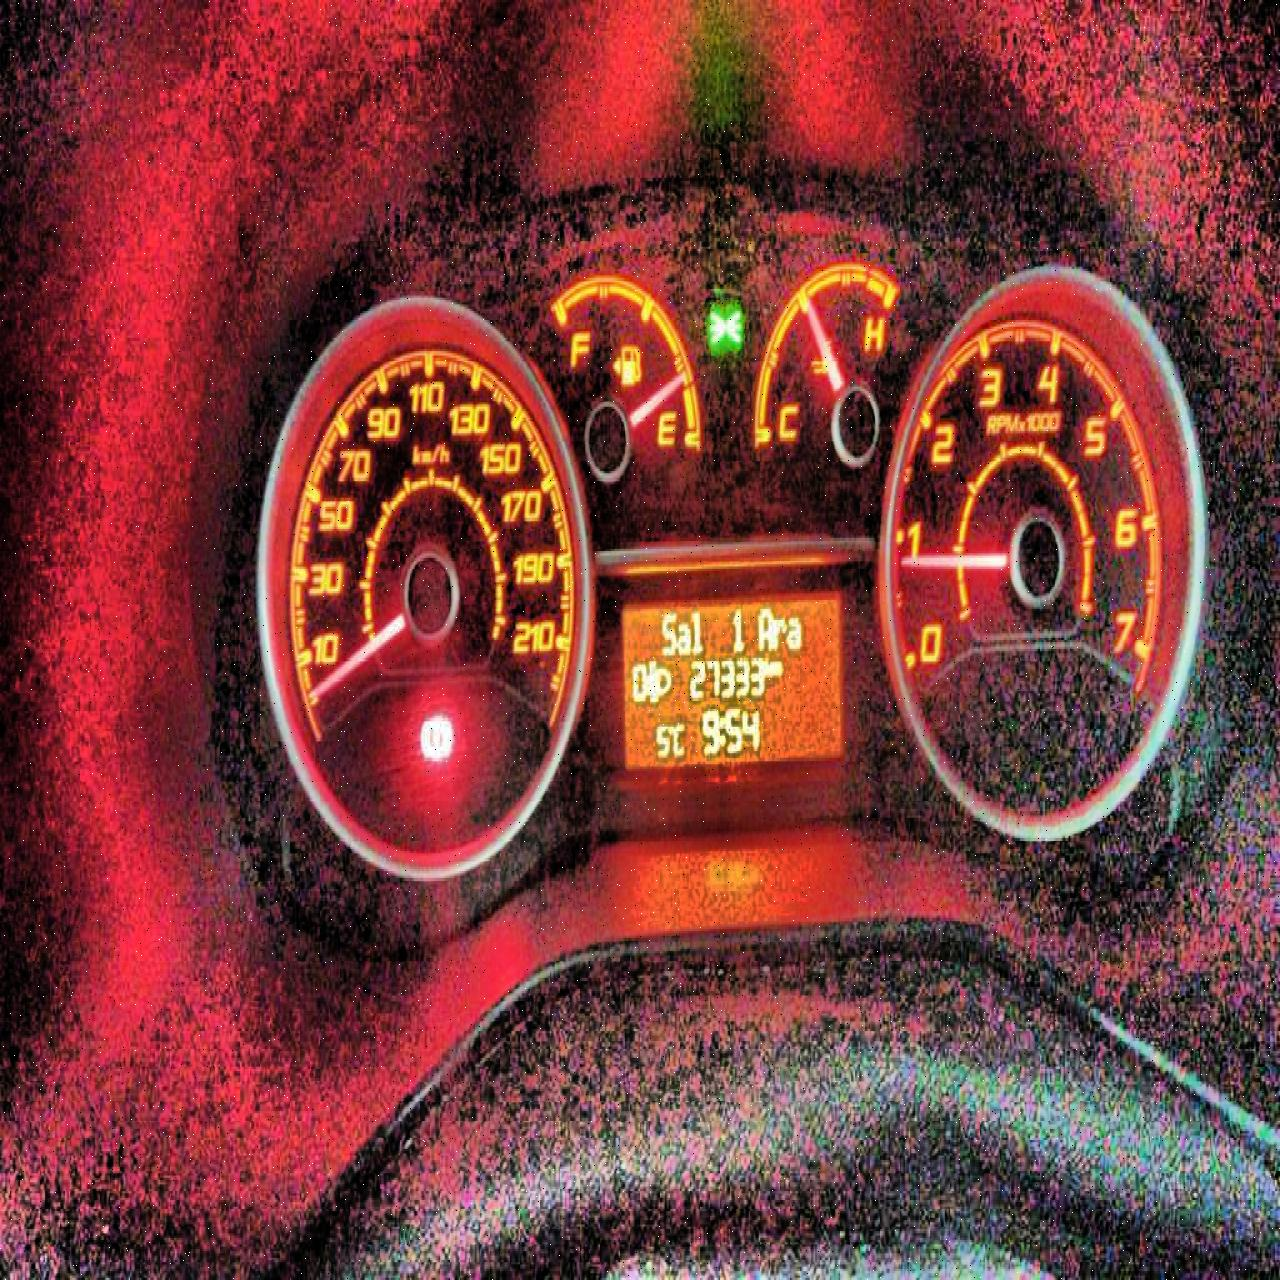0: (631, 658, 645, 700)
1: (730, 605, 745, 652)
2: (688, 658, 703, 697)
3: (720, 655, 734, 697), (735, 654, 749, 695), (749, 654, 763, 695)
4: (740, 704, 760, 749)
5: (727, 704, 742, 751), (655, 722, 667, 756)
7: (704, 655, 719, 695)
9: (701, 707, 719, 754)
X: (756, 605, 771, 652), (660, 608, 675, 653), (787, 611, 803, 649), (689, 608, 702, 653), (771, 613, 785, 648), (676, 620, 690, 653), (673, 722, 682, 756), (719, 712, 726, 747), (764, 653, 771, 678), (771, 658, 781, 675)
odometer: (618, 586, 850, 767)
